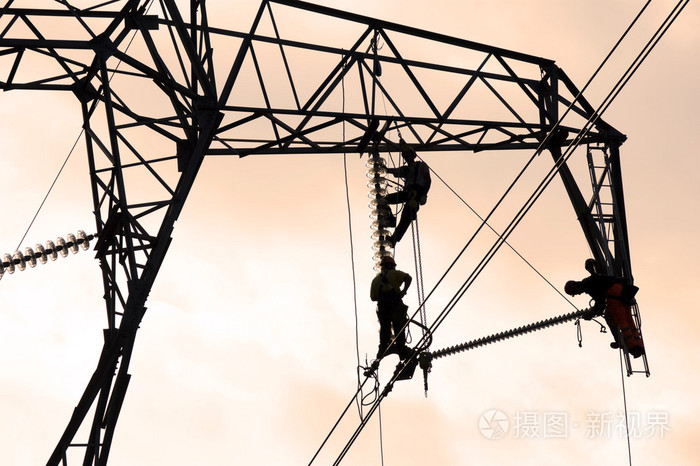insulator: (1, 230, 89, 280), (367, 155, 392, 270)
